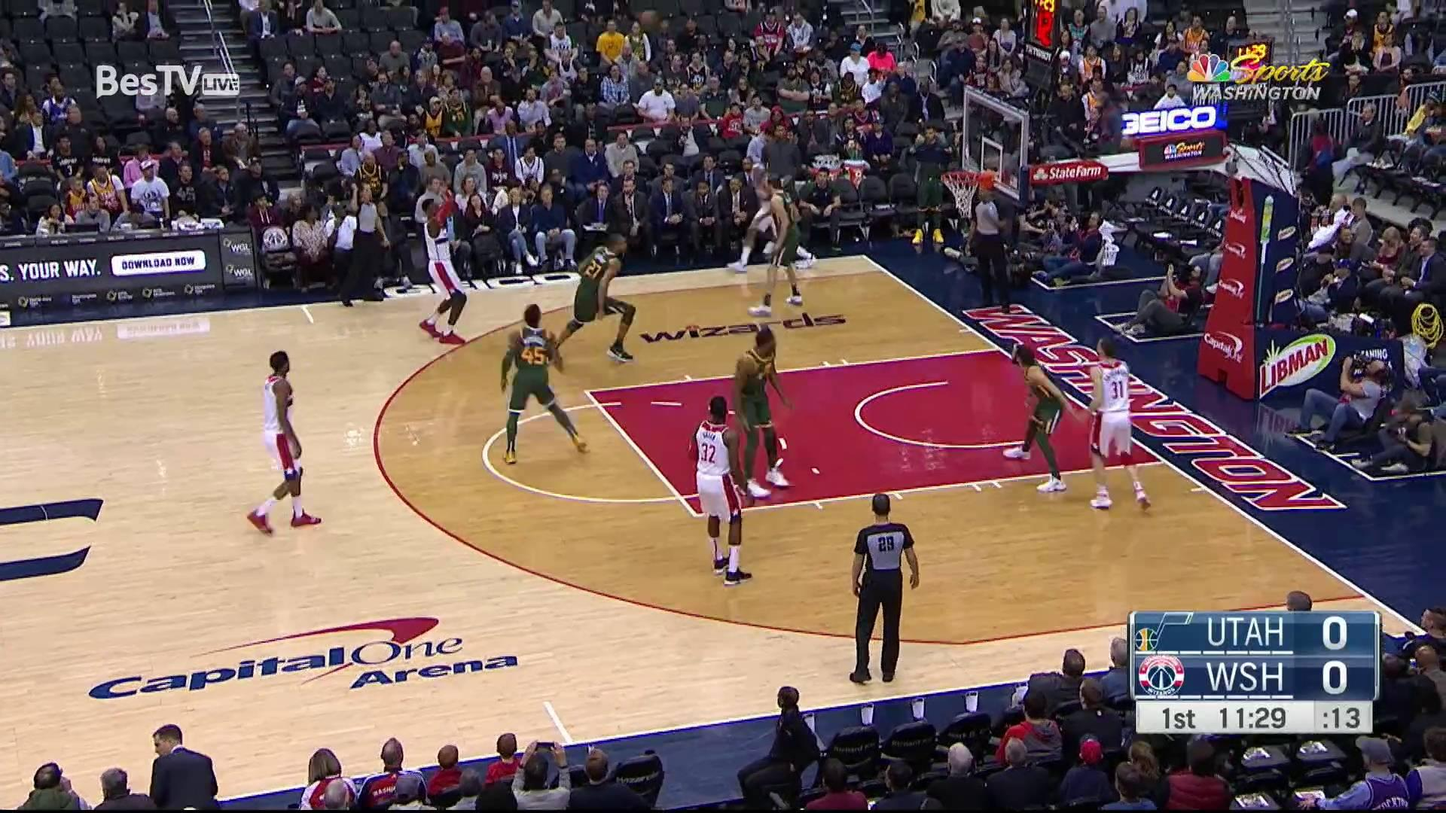basketball: (639, 9, 663, 31)
